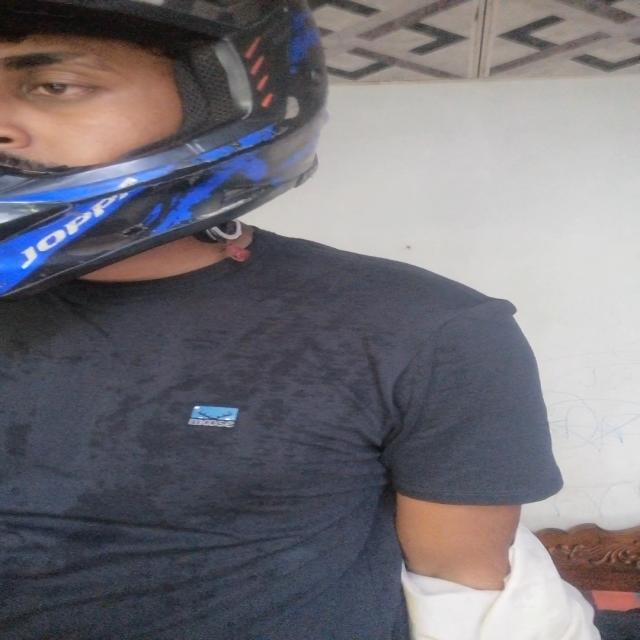Helmet_Wearer: (1, 3, 334, 331)
Person: (12, 0, 570, 640)
